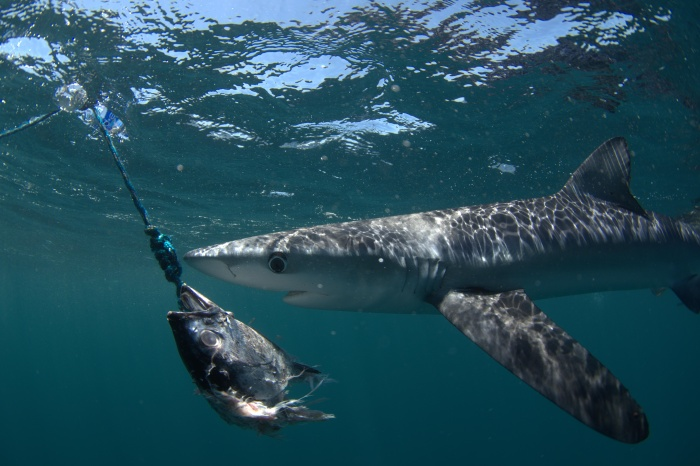Azul: (179, 115, 700, 463)
